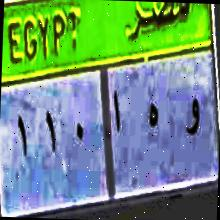0: (73, 118, 86, 156)
1: (40, 107, 61, 158), (14, 109, 29, 160)
alif: (109, 88, 125, 132)
haa: (145, 96, 162, 136)
waw: (181, 94, 201, 148)
